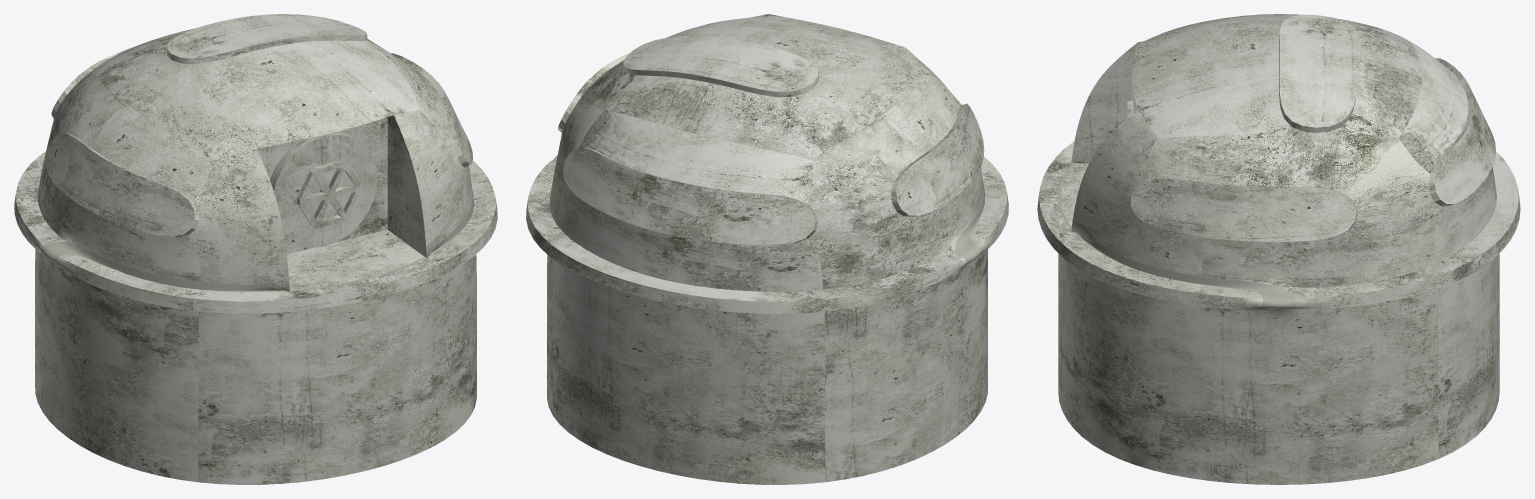
The model's file is airlock2.gltf.
3 renders of one model, left to right at view 1: azimuth 30°, elevation 25°; view 2: azimuth 150°, elevation 25°; view 3: azimuth 270°, elevation 25°, orthographic.
Parts seen in each view (by area): view 1: dome, door, wheel; view 2: dome; view 3: dome.
Boxes of the visible parts, left/top/right/bottom form: dome: left=14, top=14, right=497, bottom=484; door: left=270, top=131, right=377, bottom=247; wheel: left=297, top=160, right=361, bottom=227; dome: left=526, top=14, right=1008, bottom=484; dome: left=1037, top=14, right=1520, bottom=484.
Bounding box in the file's own units: 3.97 × 3.15 × 3.92.
Materials: 1 (1 with a texture image).
